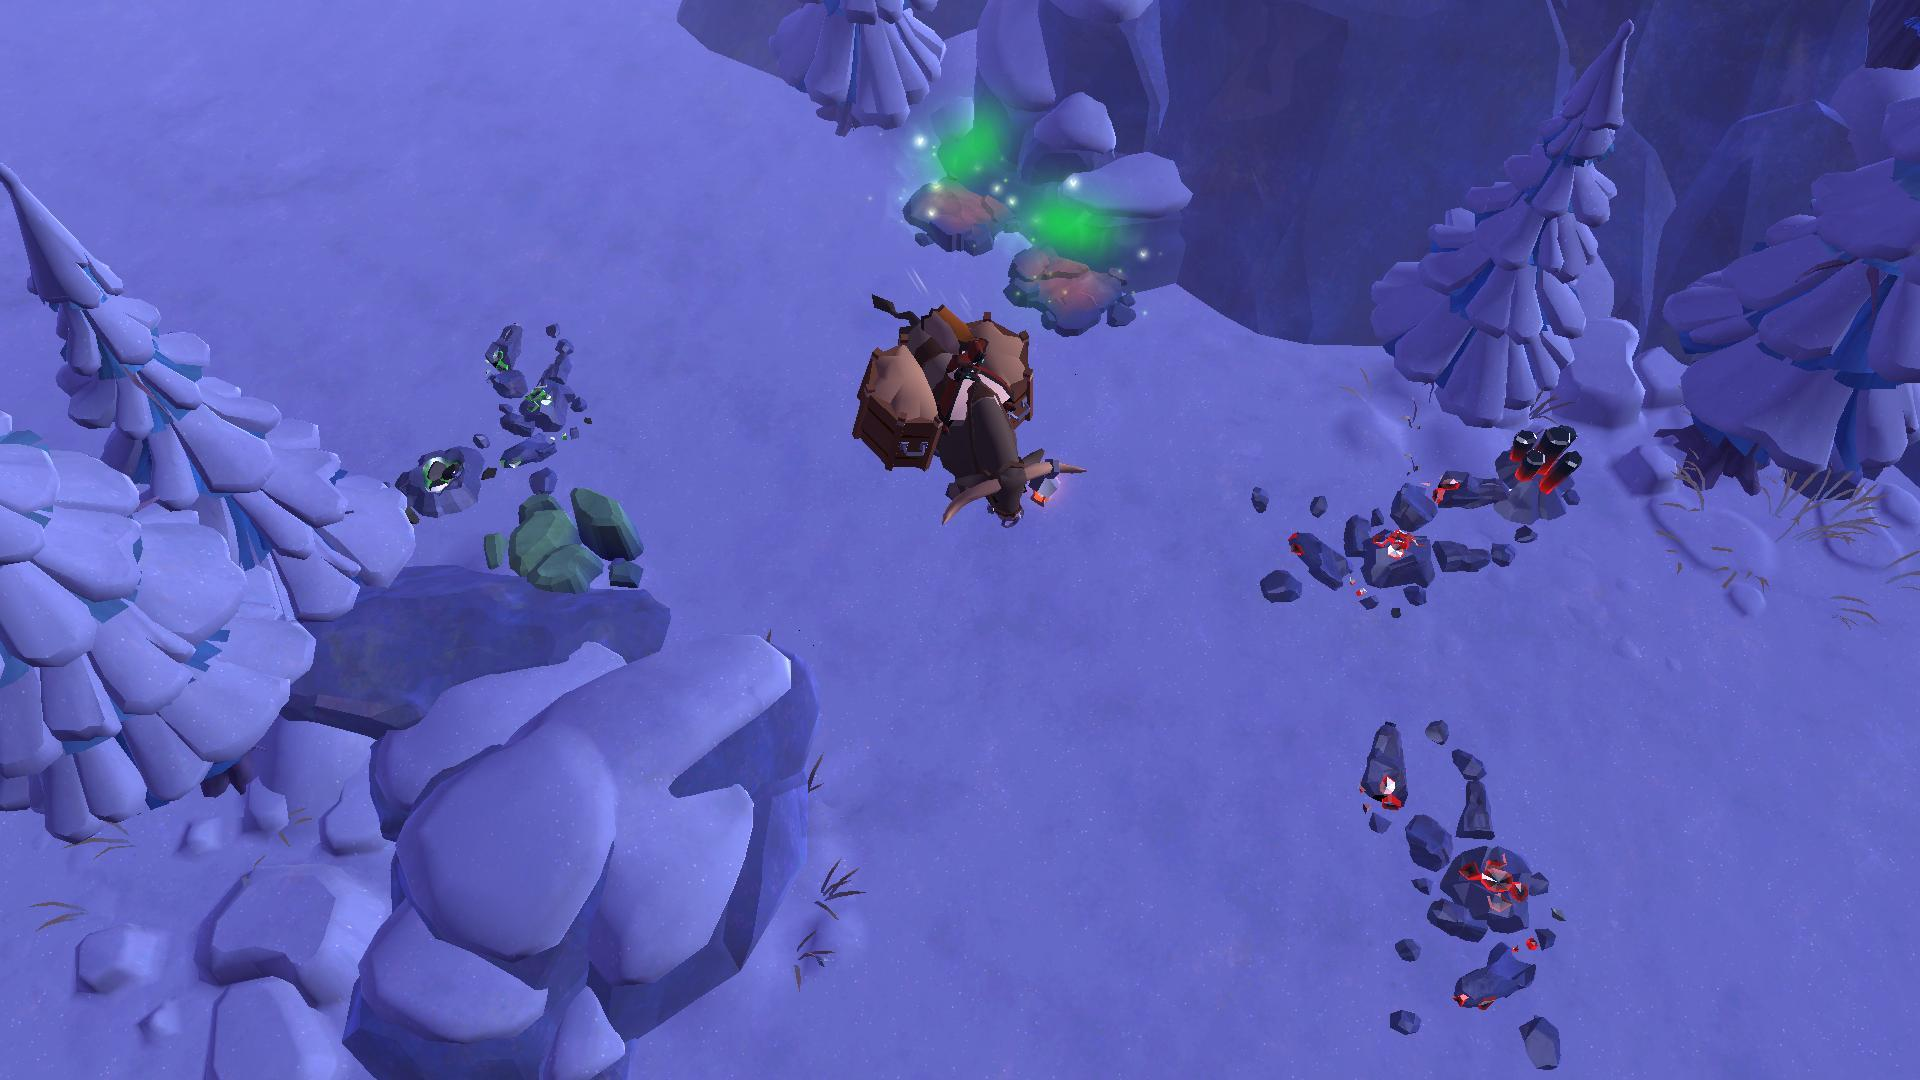ore_t5: (1499, 418, 1584, 492)
rock_t3: (492, 472, 662, 603)
